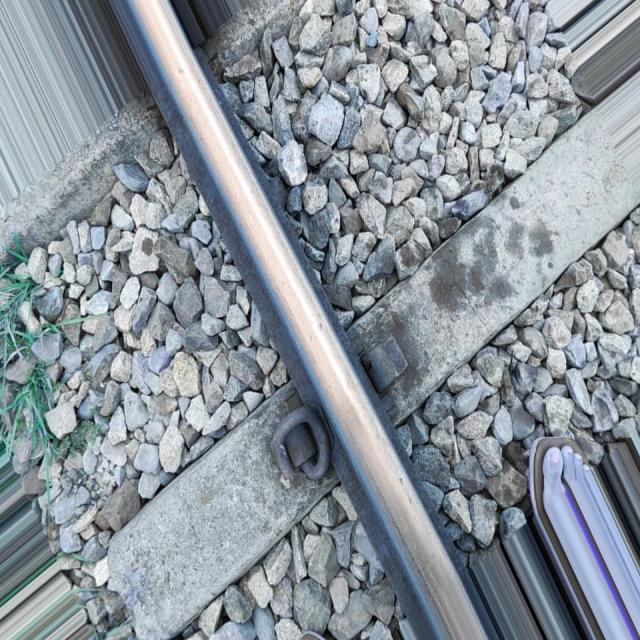Good Fasteners: (243, 407, 334, 507)
Missing Fastener: (361, 311, 423, 399)
